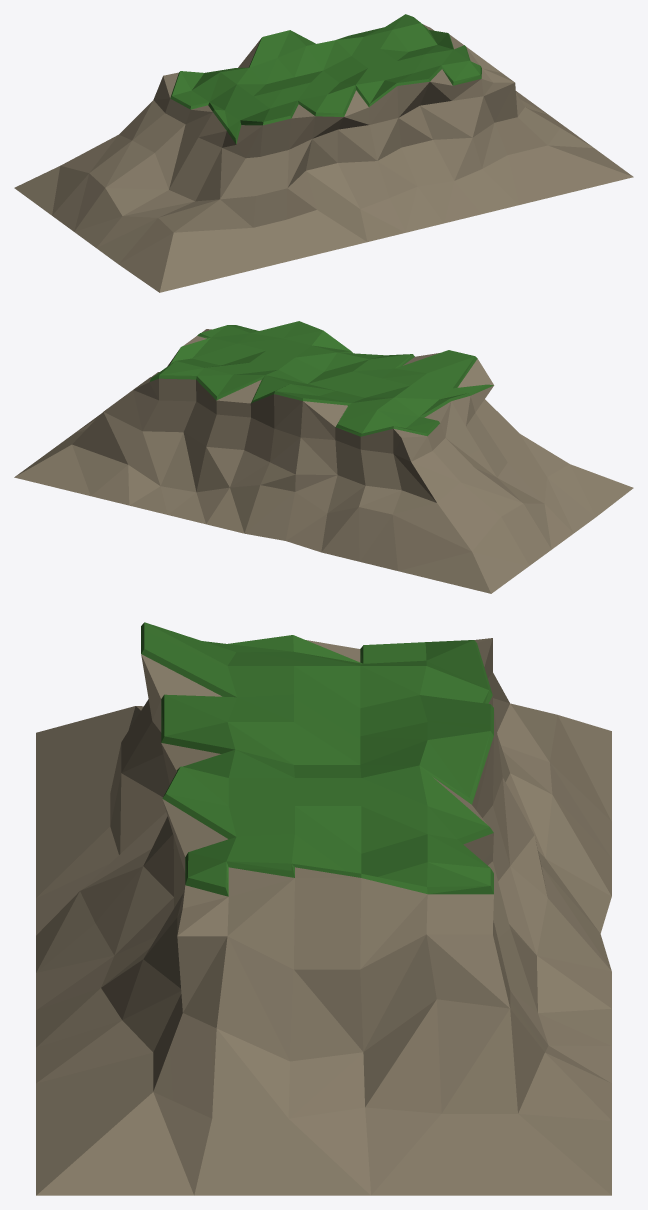
The model's file is Plateau_02.glb.
3 renders of one model, top to bottom at view 1: azimuth 30°, elevation 25°; view 2: azimuth 150°, elevation 25°; view 3: azimuth 270°, elevation 25°, orthographic. The views are drawn at different scales.
Parts seen in each view (by area): view 1: Plateau_temperate_climate_002; view 2: Plateau_temperate_climate_002; view 3: Plateau_temperate_climate_002.
Part boxes in pixels (<box>): Plateau_temperate_climate_002: <box>14,14,633,292</box>; Plateau_temperate_climate_002: <box>14,321,633,593</box>; Plateau_temperate_climate_002: <box>36,622,611,1195</box>.
Bounding box in the file's own units: 65.48 × 15.79 × 34.29.
1 material, 1 textured.
